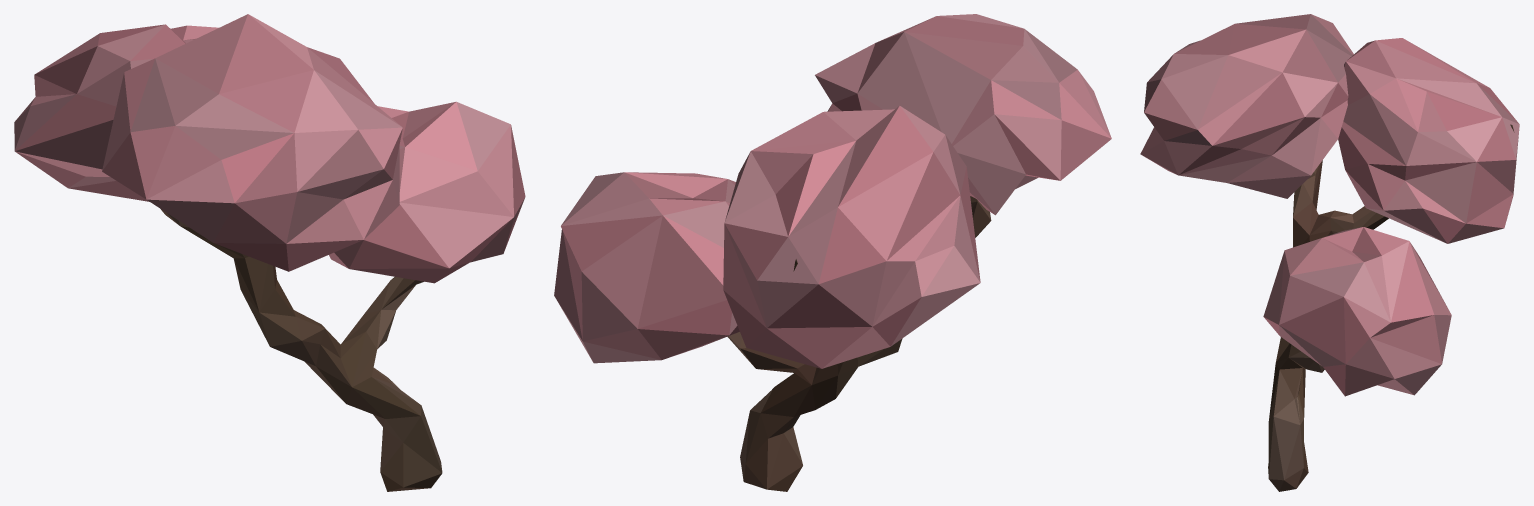
File: Tree_BlossomB.fbx
3 views of the same model, side by side, from view 1: azimuth 30°, elevation 25°; view 2: azimuth 150°, elevation 25°; view 3: azimuth 270°, elevation 25° (orthographic). The views are drawn at different scales.
Parts seen in each view (by area): view 1: Tree_BlossomB; view 2: Tree_BlossomB; view 3: Tree_BlossomB.
Boxes of the visible parts, x1=… form: Tree_BlossomB: x1=14, y1=14, x2=525, y2=491; Tree_BlossomB: x1=554, y1=14, x2=1111, y2=491; Tree_BlossomB: x1=1140, y1=14, x2=1519, y2=491.
Bounding box in the file's own units: 642 × 672 × 580.
